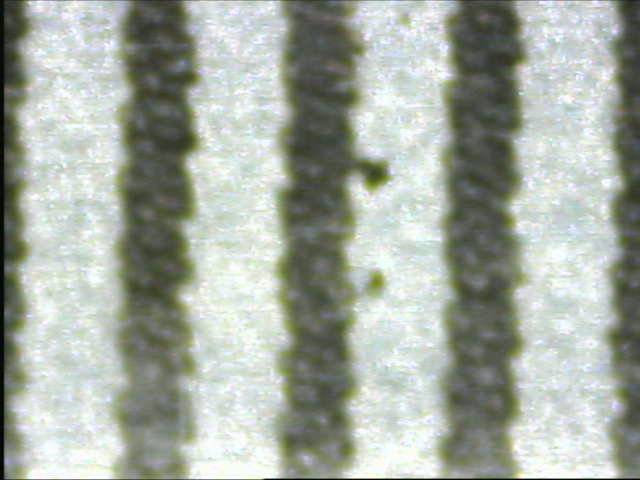line: (268, 1, 366, 473), (436, 1, 532, 478), (106, 1, 200, 474)
